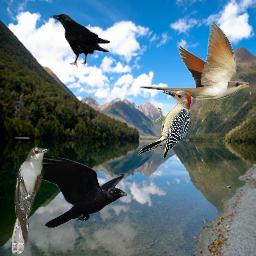Crow: (19, 155, 129, 228), (50, 13, 110, 68)
Cuckoo: (139, 23, 249, 100), (10, 146, 50, 254)
Woodpecker: (135, 87, 199, 158)
